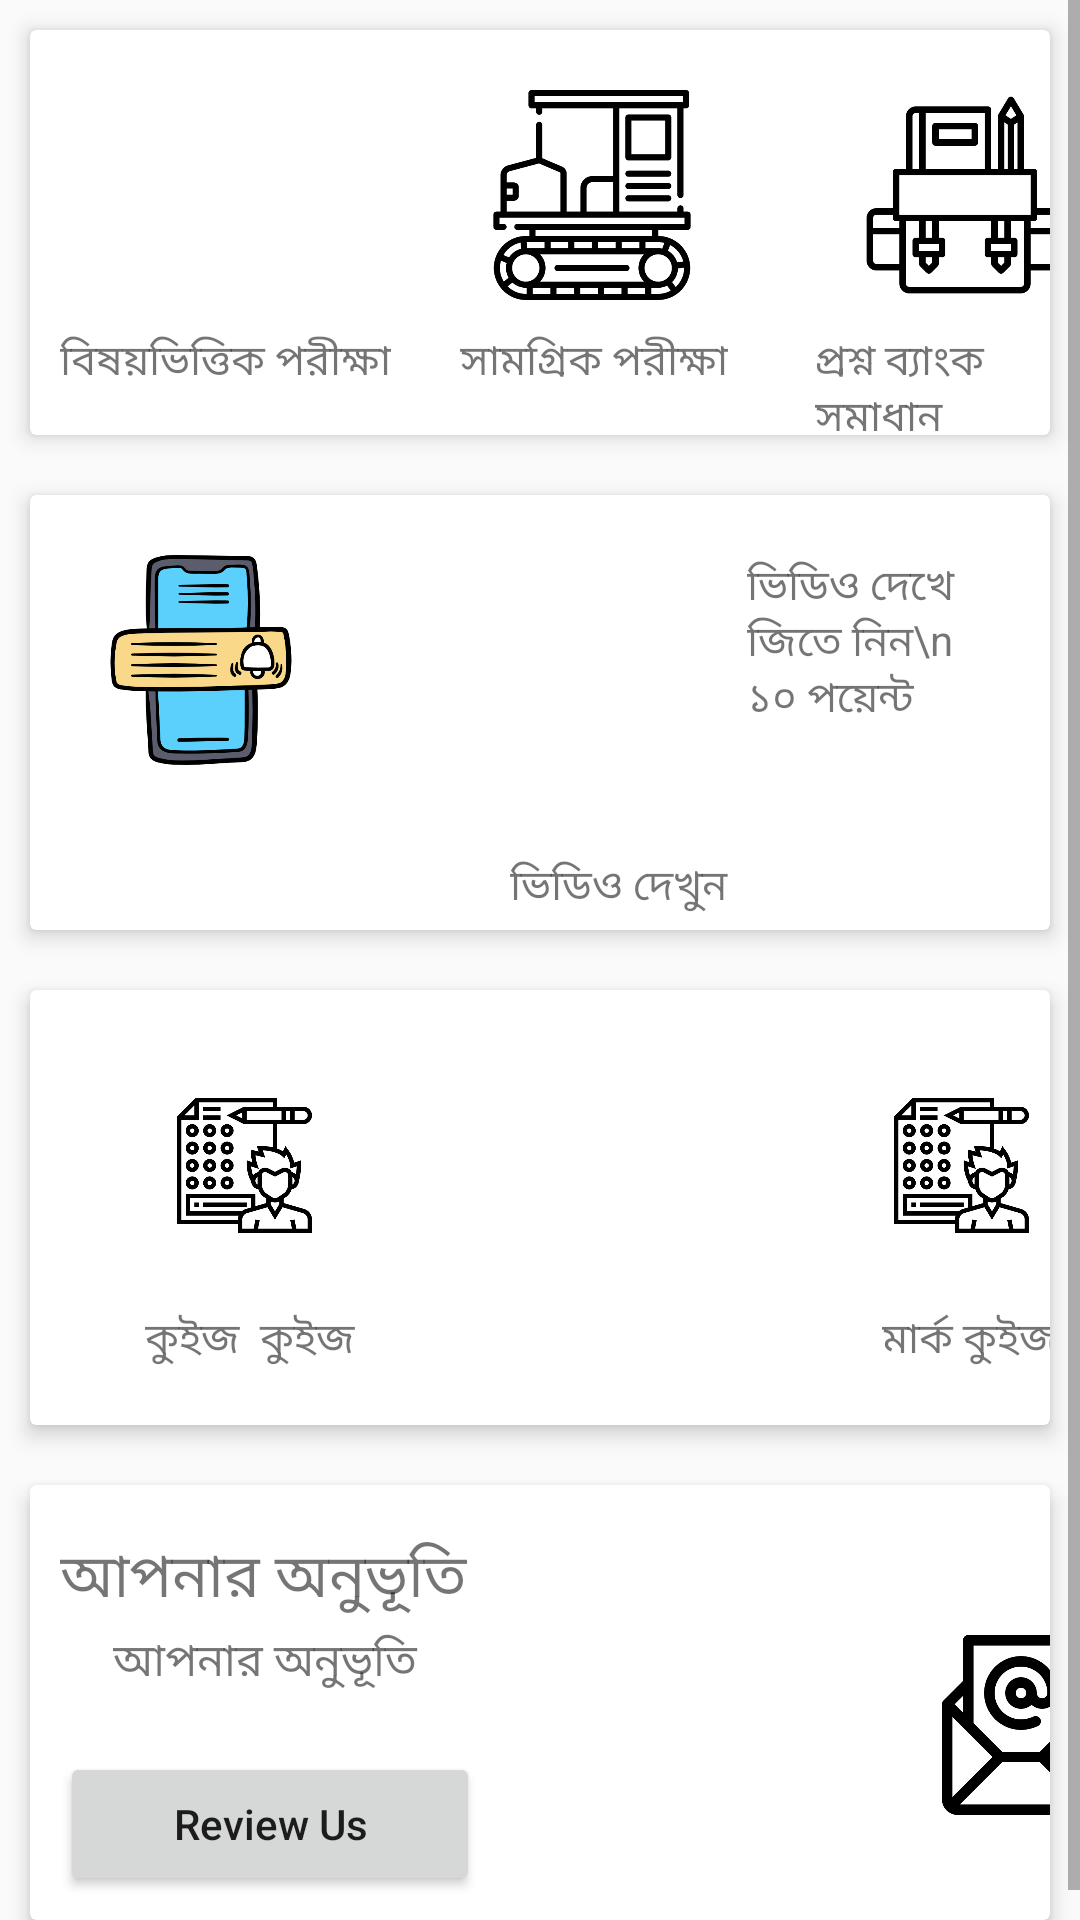

Screen size 1080x1920. Icon name, then its center in pixels as point (x, y):
answer: point (244, 1165), point (961, 1165)
backpack: point (958, 195)
notification: point (201, 660)
